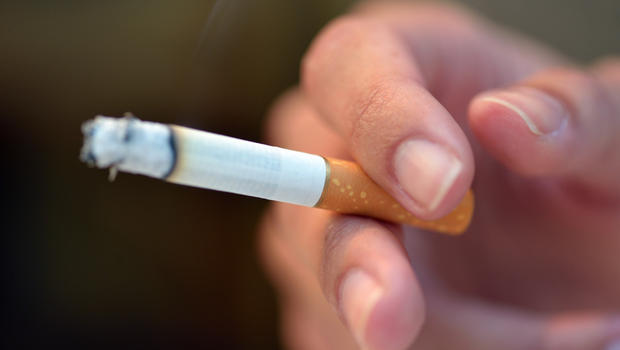cigarette: (84, 114, 477, 232)
